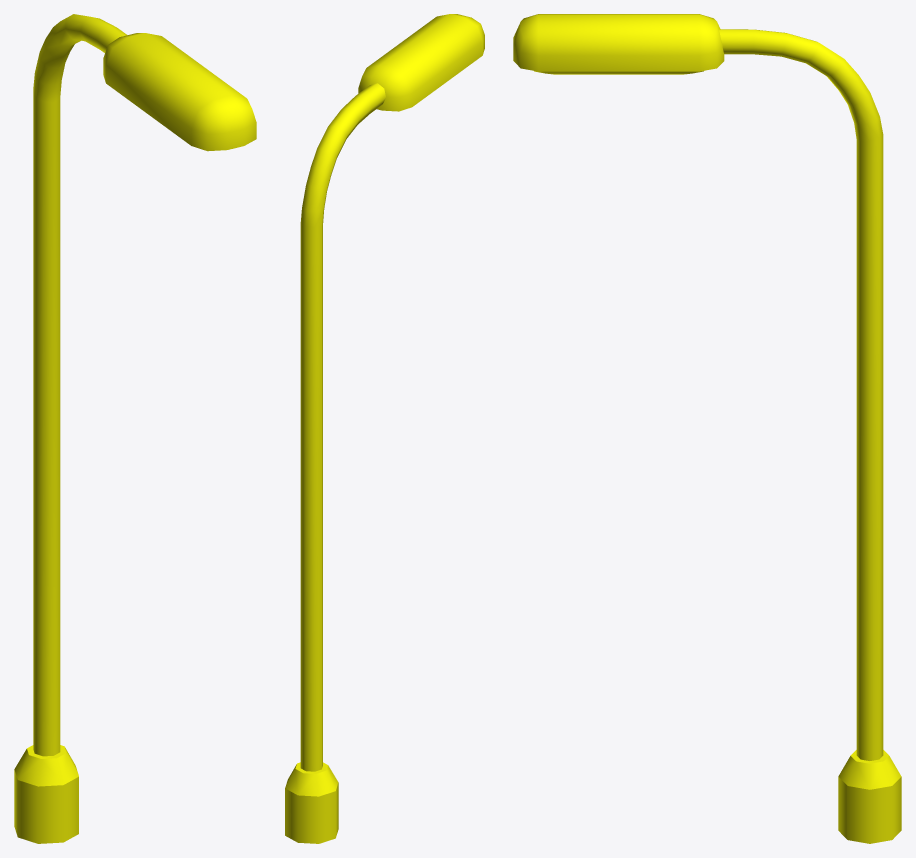
The picture shows the model from 3 angles, left to right: view 1: azimuth 30°, elevation 25°; view 2: azimuth 150°, elevation 25°; view 3: azimuth 270°, elevation 25°; orthographic projection. The views are drawn at different scales.
Parts seen in each view (by area): view 1: Lighting; view 2: Lighting; view 3: Lighting.
Boxes of the visible parts, box(x1,y1,x2,y2) form: Lighting: box(14, 14, 256, 843); Lighting: box(285, 14, 484, 843); Lighting: box(513, 14, 901, 843).
Bounding box in the file's own units: 0.3051 × 4.02 × 1.74.
Materials: 1 (1 with a texture image).
